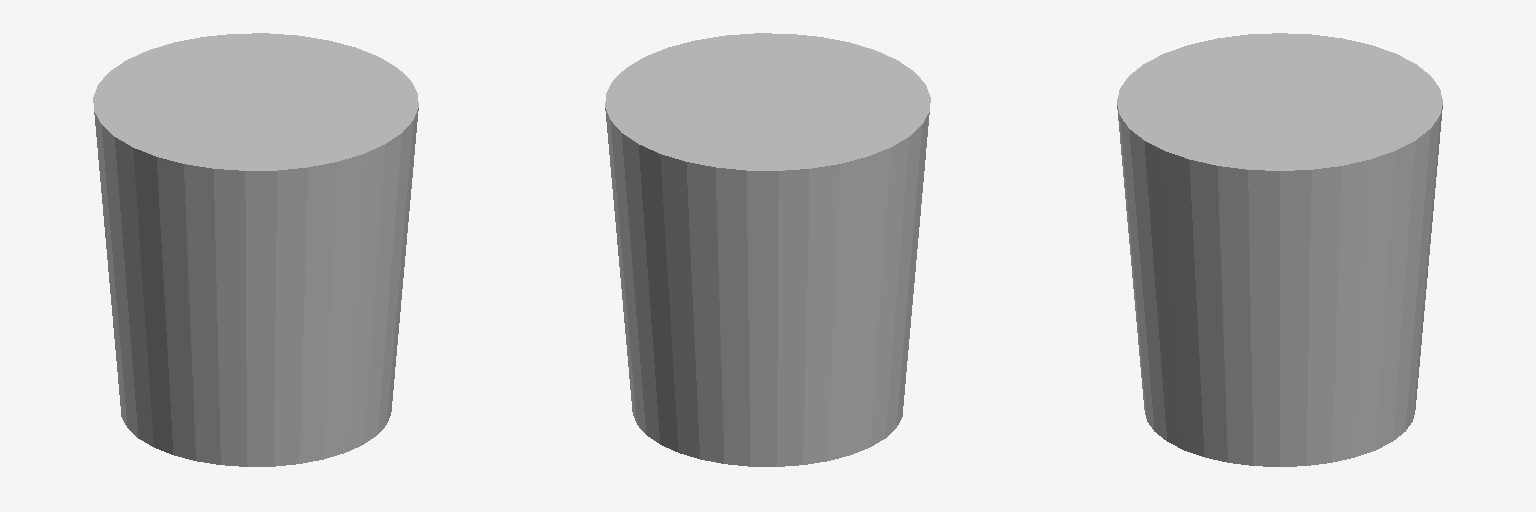
Rendered from Milk2_Cylinder.004.obj.
3 renders of one model, left to right at view 1: azimuth 30°, elevation 25°; view 2: azimuth 150°, elevation 25°; view 3: azimuth 270°, elevation 25°, orthographic.
Visible parts, largest first — view 1: Milk2_Cylinder.004; view 2: Milk2_Cylinder.004; view 3: Milk2_Cylinder.004.
Part boxes in pixels (x1,y1,x2,y2): Milk2_Cylinder.004: (93, 33, 418, 466); Milk2_Cylinder.004: (605, 33, 930, 466); Milk2_Cylinder.004: (1117, 33, 1442, 466).
Bounding box in the file's own units: 1.77 × 1.84 × 1.77.